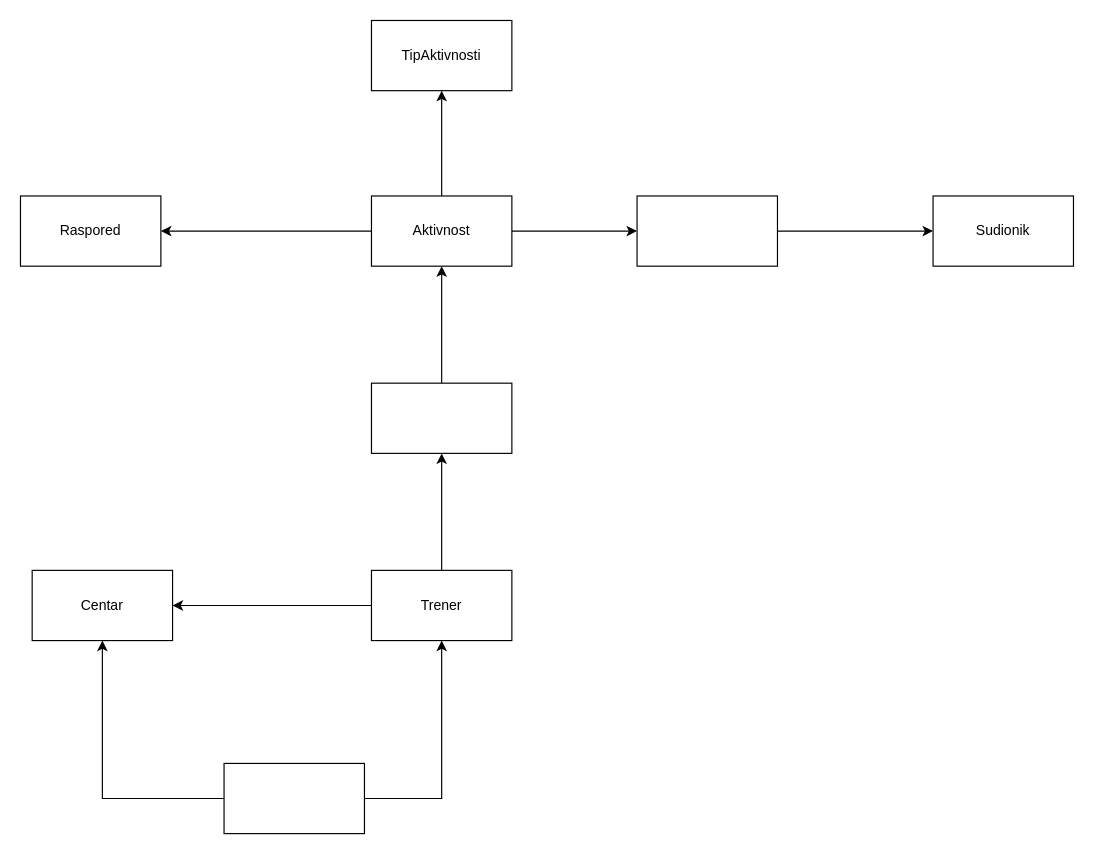
Image size: 1094x854. Some labels were removed from this diagram. The centre of each missing label's shape, as x and y in pixels:
AktivnostSudionik: point (706, 230)
AktivnostTrener: point (441, 417)
Država: point (293, 798)
